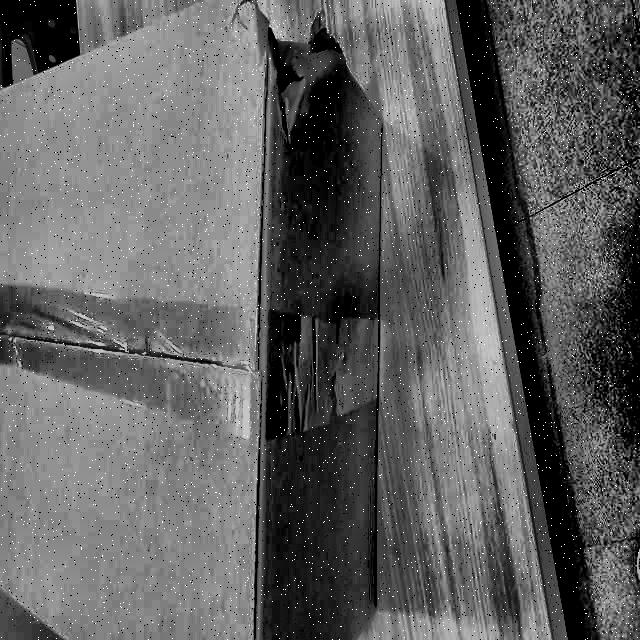box: (0, 1, 395, 640)
hole: (263, 21, 343, 134)
